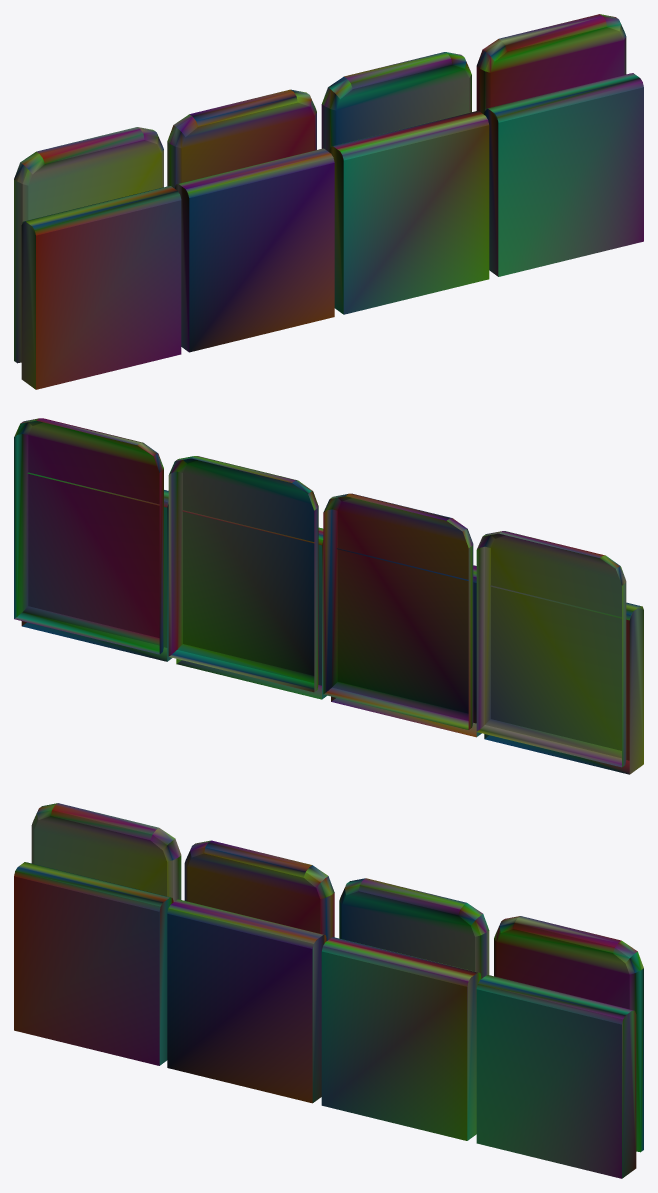
File: SM_busChair3.fbx
3 views of the same model, one above another, from view 1: azimuth 30°, elevation 25°; view 2: azimuth 150°, elevation 25°; view 3: azimuth 330°, elevation 25° (orthographic).
Parts seen in each view (by area): view 1: polySurface473; view 2: polySurface473; view 3: polySurface473.
Boxes of the visible parts, x1,y1,x2,y2 form: polySurface473: (14, 14, 643, 389); polySurface473: (14, 418, 643, 774); polySurface473: (14, 803, 643, 1178).
Bounding box in the file's own units: 112 × 38.05 × 6.99.
